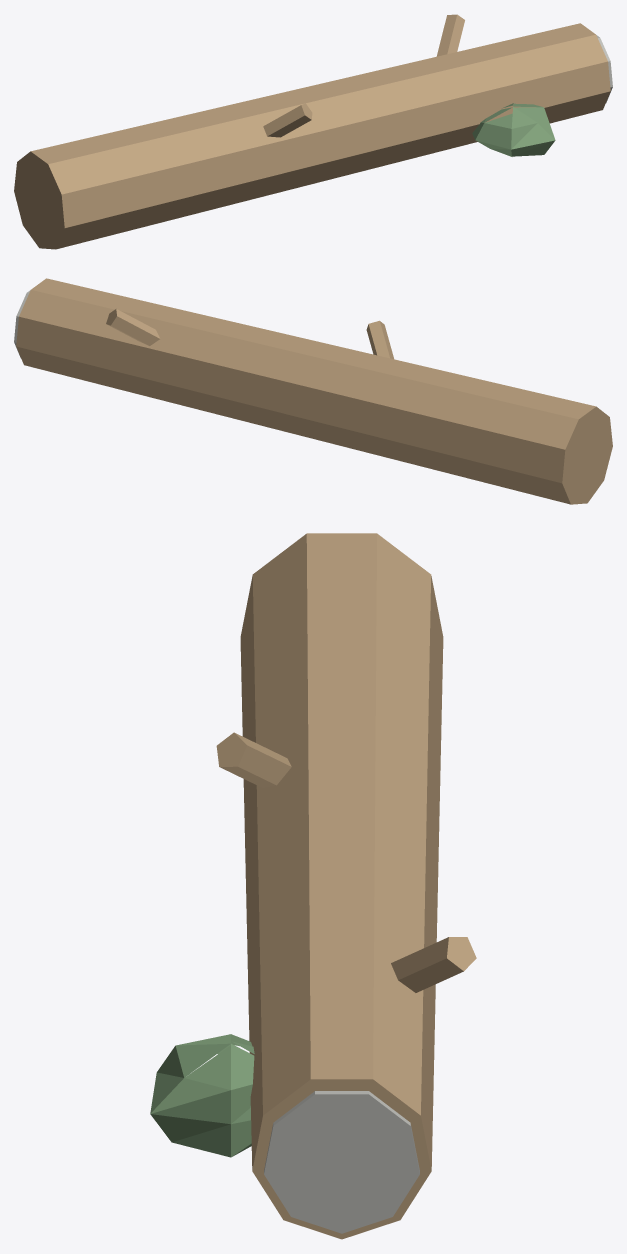
The model's file is wipe-day-survival-island-fallen-log-94c04ea8__27429.glb.
3 renders of one model, top to bottom at view 1: azimuth 30°, elevation 25°; view 2: azimuth 150°, elevation 25°; view 3: azimuth 270°, elevation 25°, orthographic. The views are drawn at different scales.
Parts seen in each view (by area): view 1: fallen-log; view 2: fallen-log; view 3: fallen-log.
Part boxes in pixels (x1=…): fallen-log: x1=14, y1=14, x2=612, y2=249; fallen-log: x1=14, y1=278, x2=612, y2=504; fallen-log: x1=150, y1=533, x2=476, y2=1239.
Bounding box in the file's own units: 3.23 × 0.5891 × 0.8242.
